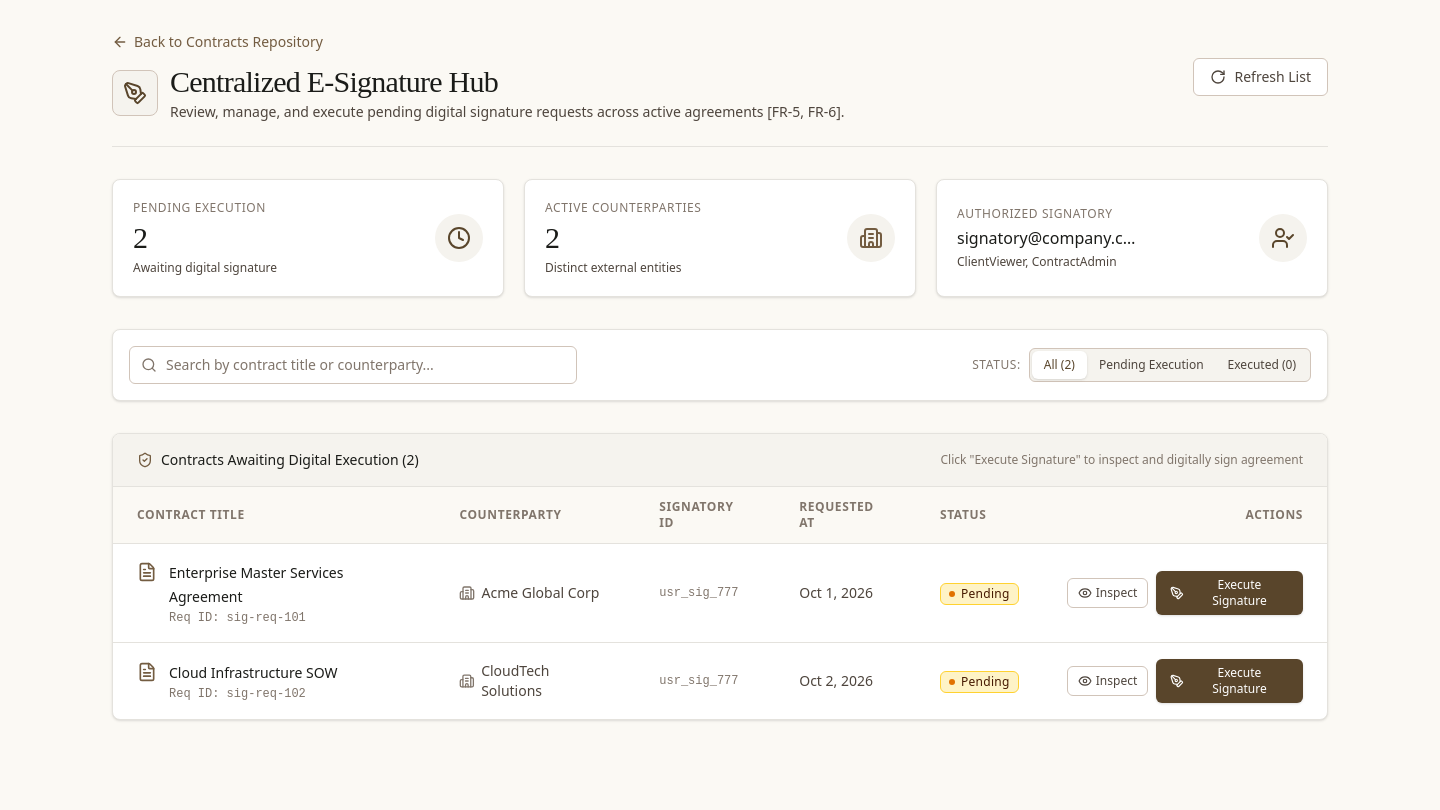
Test: SignaturesHubPage Component [FR-5, FR-6, NFR-5] › filters pending signatures by search query
Expected: the link "Enterprise Master Services Agreement" is shown, [169,563,344,606]
Type "CloudTech" into the field with test id "search-signatures-input" at (353, 365), box [129,346,577,384]
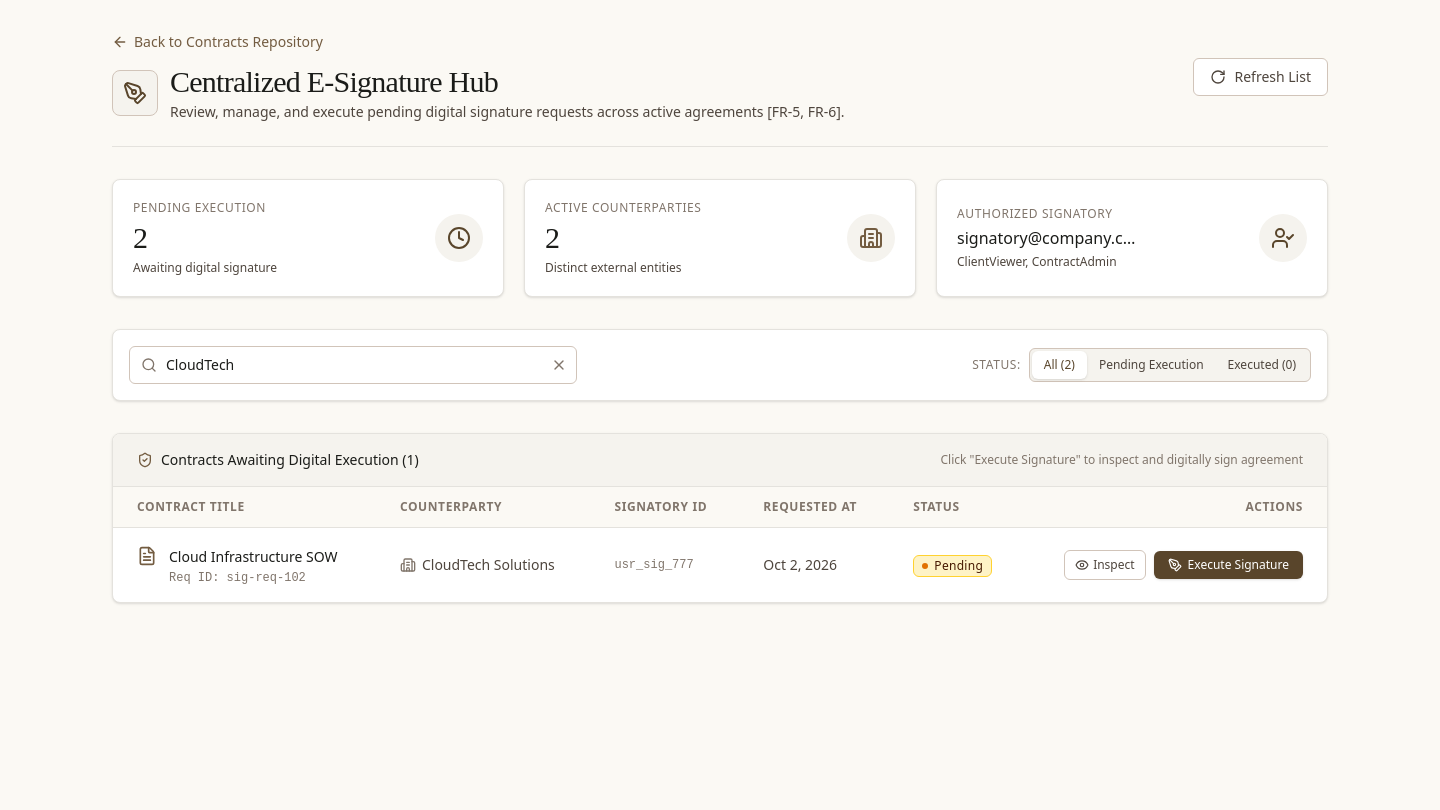
Expected: the link "Cloud Infrastructure SOW" is shown, [169,547,338,566]
Result: the link "Enterprise Master Services Agreement" is gone
